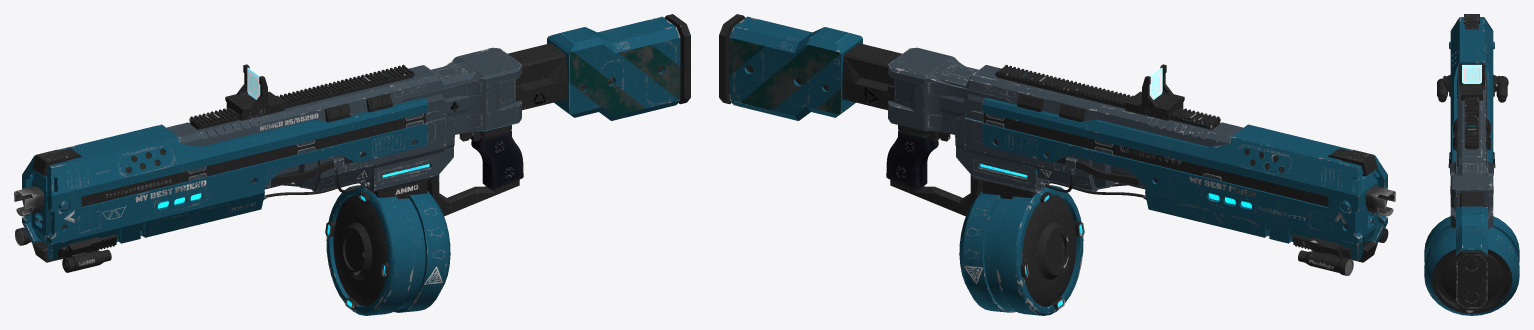
The model's file is blue_blasterGD.glb.
The picture shows the model from 3 angles, left to right: view 1: azimuth 30°, elevation 25°; view 2: azimuth 150°, elevation 25°; view 3: azimuth 270°, elevation 25°; orthographic projection. The views are drawn at different scales.
Visible parts, largest first — view 1: Cube.006_low; view 2: Cube.006_low; view 3: Cube.006_low.
Part boxes in pixels (bbox=[...]): Cube.006_low: bbox=[14, 14, 690, 315]; Cube.006_low: bbox=[719, 14, 1395, 315]; Cube.006_low: bbox=[1424, 14, 1519, 315].
Bounding box in the file's own units: 1.2 × 0.4732 × 0.2063.
1 material, 1 textured.
